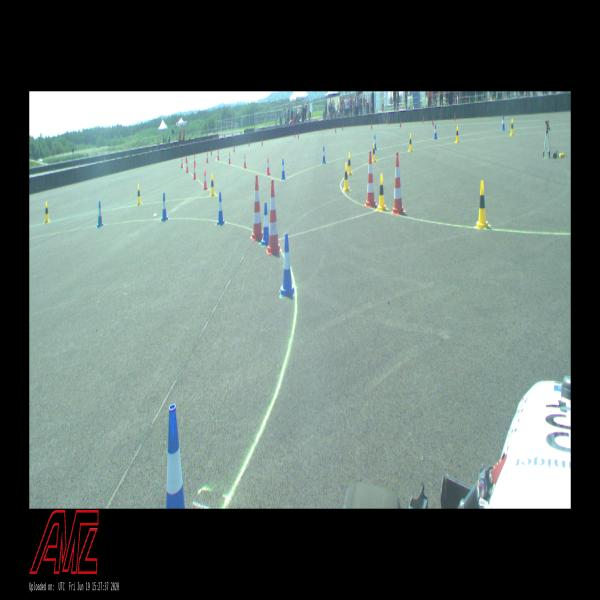blue_cone: (166, 404, 185, 509), (280, 234, 295, 296), (261, 202, 269, 245), (217, 192, 225, 224), (161, 193, 168, 221), (97, 201, 103, 227), (281, 159, 286, 179), (322, 146, 326, 164), (373, 135, 377, 150), (502, 115, 505, 130), (434, 124, 437, 139)
large_orange_cone: (266, 181, 282, 255), (390, 153, 406, 215), (250, 176, 264, 242), (366, 152, 378, 208)
orange_cone: (203, 170, 208, 190), (266, 157, 270, 175), (193, 164, 197, 180), (186, 160, 189, 173), (228, 151, 231, 164), (206, 153, 209, 163), (217, 150, 220, 160), (244, 154, 246, 168), (181, 158, 183, 168), (194, 155, 196, 165)
unknown_cone: (432, 117, 434, 126), (454, 112, 456, 121), (371, 121, 373, 129), (261, 138, 263, 146), (233, 144, 235, 152), (294, 131, 296, 138), (248, 140, 250, 146), (186, 154, 187, 164), (400, 119, 401, 128), (423, 115, 424, 123), (211, 148, 212, 156), (342, 124, 343, 131), (335, 126, 336, 133), (298, 132, 299, 139), (389, 119, 390, 125)
yellow_cone: (476, 181, 490, 228), (377, 173, 387, 210), (343, 163, 349, 191), (136, 184, 142, 205), (44, 201, 50, 222), (210, 174, 215, 196), (347, 153, 352, 174), (408, 134, 413, 152), (455, 126, 460, 143), (372, 143, 376, 162), (510, 119, 514, 135)
